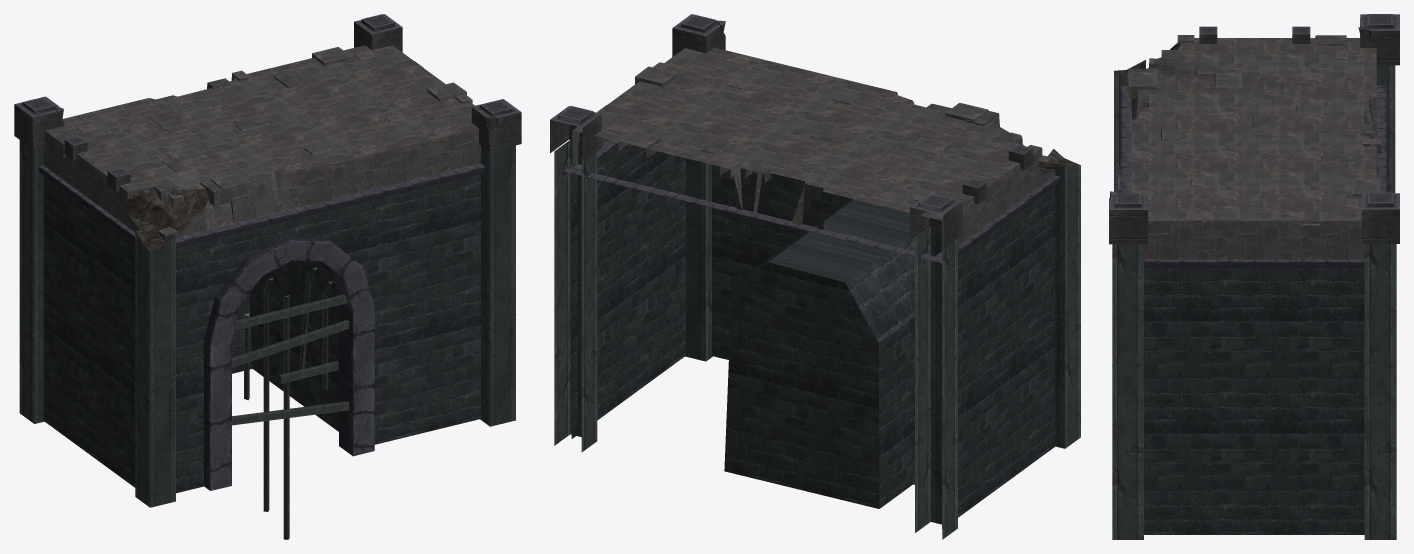
File: building_section02_guanka10C05.FBX
3 renders of one model, left to right at view 1: azimuth 30°, elevation 25°; view 2: azimuth 150°, elevation 25°; view 3: azimuth 270°, elevation 25°, orthographic. The views are drawn at different scales.
Parts seen in each view (by area): view 1: building_section02_guanka10C05; view 2: building_section02_guanka10C05; view 3: building_section02_guanka10C05.
Part boxes in pixels (<box>): building_section02_guanka10C05: <box>14,14,521,539</box>; building_section02_guanka10C05: <box>550,14,1080,539</box>; building_section02_guanka10C05: <box>1109,14,1399,539</box>.
Size of the model in its own units: 33.32 by 32.84 by 20.94.
